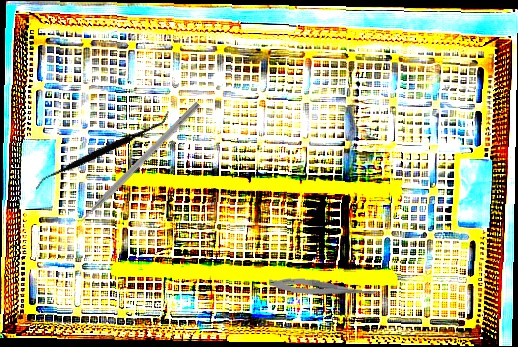Chopper: (65, 95, 201, 231)
Micro Scissor: (268, 276, 385, 300)
Spatula Surgical: (33, 71, 171, 229)
